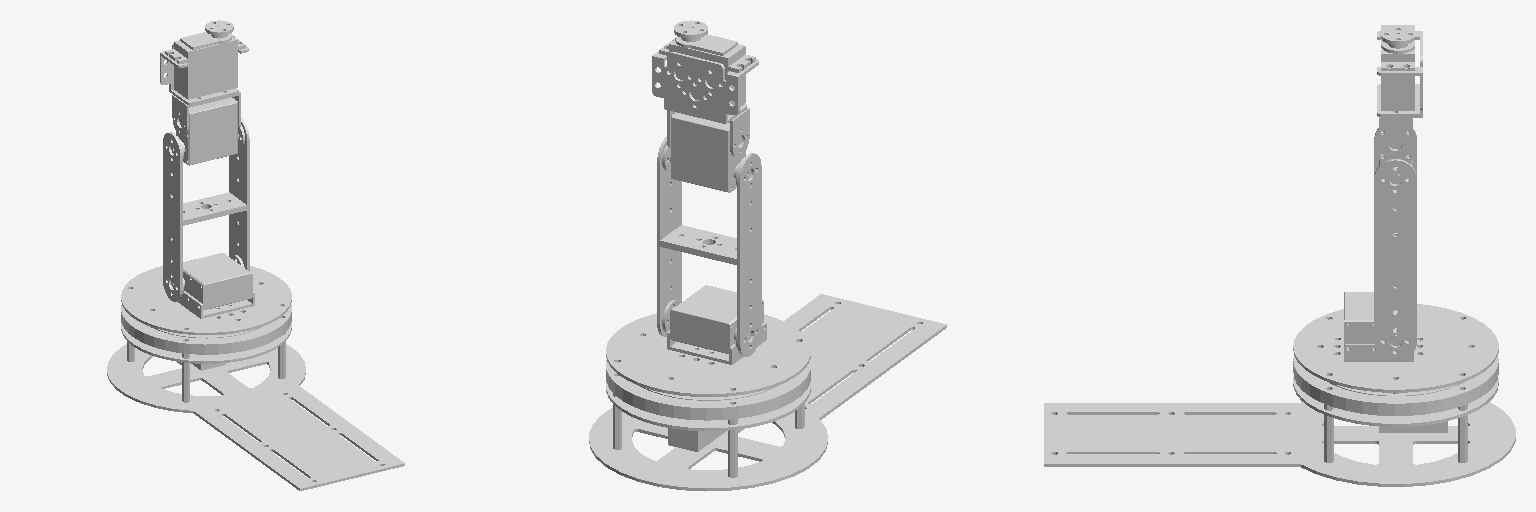
robot.urdf — neo5:
<robot
  name="neo5">
  <link name="link0">
    <visual>
      <origin xyz="0 0 0" rpy="0 0 0" />
      <geometry>
        <mesh filename="package://neo5_description/meshes/link0.STL" />
      </geometry>
      <material name="">
        <color rgba="0.9 0.9 0.9 1" />
      </material>
    </visual>
    <collision>
      <origin xyz="0 0 0" rpy="0 0 0" />
      <geometry>
        <mesh filename="package://neo5_description/meshes/link0.STL" />
      </geometry>
    </collision>
  </link>
  <link name="link1">
    <visual>
      <origin xyz="0 0 0" rpy="0 0 0" />
      <geometry>
        <mesh filename="package://neo5_description/meshes/link1.STL" />
      </geometry>
      <material name="">
        <color rgba="0.9 0.9 0.9 1" />
      </material>
    </visual>
    <collision>
      <origin xyz="0 0 0" rpy="0 0 0" />
      <geometry>
        <mesh filename="package://neo5_description/meshes/link1.STL" />
      </geometry>
    </collision>
  </link>
  <joint name="joint1" type="revolute">
    <origin xyz="0 -0.001 0.041" rpy="0 0 -0.071489" />
    <parent link="link0" />
    <child  link="link1" />
    <axis xyz="0 0 1" />
    <limit effort="0" velocity="0" lower="-1.57" upper="1.57" />
  </joint>
  <link name="link2">
    <visual>
      <origin xyz="0 0 0" rpy="0 0 0" />
      <geometry>
        <mesh filename="package://neo5_description/meshes/link2.STL" />
      </geometry>
      <material name="">
        <color rgba="0.9 0.9 0.9 1" />
      </material>
    </visual>
    <collision>
      <origin xyz="0 0 0" rpy="0 0 0" />
      <geometry>
        <mesh filename="package://neo5_description/meshes/link2.STL" />
      </geometry>
    </collision>
  </link>
  <joint name="joint2" type="revolute">
    <origin xyz="0 0.0008 0.033" rpy="0 0 0.071489" />
    <parent link="link1" />
    <child  link="link2" />
    <axis xyz="1 0 0" />
    <limit effort="0" velocity="0" lower="-1.57" upper="1.57" />
  </joint>
  <link name="link3">
    <visual>
      <origin xyz="0 0 0" rpy="0 0 0" />
      <geometry>
        <mesh filename="package://neo5_description/meshes/link3.STL" />
      </geometry>
      <material name="">
        <color rgba="0.9 0.9 0.9 1" />
      </material>
    </visual>
    <collision>
      <origin xyz="0 0 0" rpy="0 0 0" />
      <geometry>
        <mesh filename="package://neo5_description/meshes/link3.STL" />
      </geometry>
    </collision>
  </link>
  <joint name="joint3" type="revolute">
    <origin xyz="0 0 0.104" rpy="0 0 0" />
    <parent link="link2" />
    <child  link="link3" />
    <axis xyz="1 0 0" />
    <limit effort="0" velocity="0" lower="-1.57" upper="1.57" />
  </joint>
  <link name="link4">
    <visual>
      <origin xyz="0 0 0" rpy="0 0 0" />
      <geometry>
        <mesh filename="package://neo5_description/meshes/link4.STL" />
      </geometry>
      <material name="">
        <color rgba="0.9 0.9 0.9 1" />
      </material>
    </visual>
    <collision>
      <origin xyz="0 0 0" rpy="0 0 0" />
      <geometry>
        <mesh filename="package://neo5_description/meshes/link4.STL" />
      </geometry>
    </collision>
  </link>
  <joint name="joint4" type="revolute">
    <origin xyz="0.011 0.0015 0.0815" rpy="0 0 0" />
    <parent link="link3" />
    <child  link="link4" />
    <axis xyz="0 0 1" />
    <limit effort="0" velocity="0" lower="-1.57" upper="1.57" />
  </joint>
  <link name="link5"/>
  <joint name="joint5" type="fixed">
    <origin xyz="0 0 0.1" rpy="0 0 0" />
    <parent link="link4" />
    <child  link="link5" />
    <axis xyz="0 0 0" />
  </joint>
</robot>

--- Facts derived from the render (not from the file) ---
3 views of the same robot in one strip: view 1: azimuth 30°, elevation 25°; view 2: azimuth 150°, elevation 25°; view 3: azimuth 270°, elevation 25° (orthographic).
Model neo5 with 6 links and 5 joints (4 revolute, 1 fixed), rooted at link0, posed every joint at zero.
Visible links, largest first — view 1: link0, link1, link3, link2; view 2: link0, link1, link3, link2; view 3: link0, link1, link2, link3.
Boxes of the visible links, x1,y1,x2,y2 form: link0: (107, 305, 404, 490); link1: (121, 253, 291, 338); link3: (160, 26, 248, 165); link2: (163, 118, 249, 301); link0: (589, 294, 946, 491); link1: (606, 285, 810, 400); link3: (652, 27, 758, 192); link2: (657, 136, 761, 356); link0: (1044, 356, 1515, 486); link1: (1293, 292, 1498, 395); link2: (1374, 128, 1416, 360); link3: (1377, 25, 1422, 189).
Size in the robot's own frame: 0.1396 by 0.2747 by 0.264 metres.
Meshes: 5 distinct files referenced, 5 mesh visuals loaded (5 binary STL).